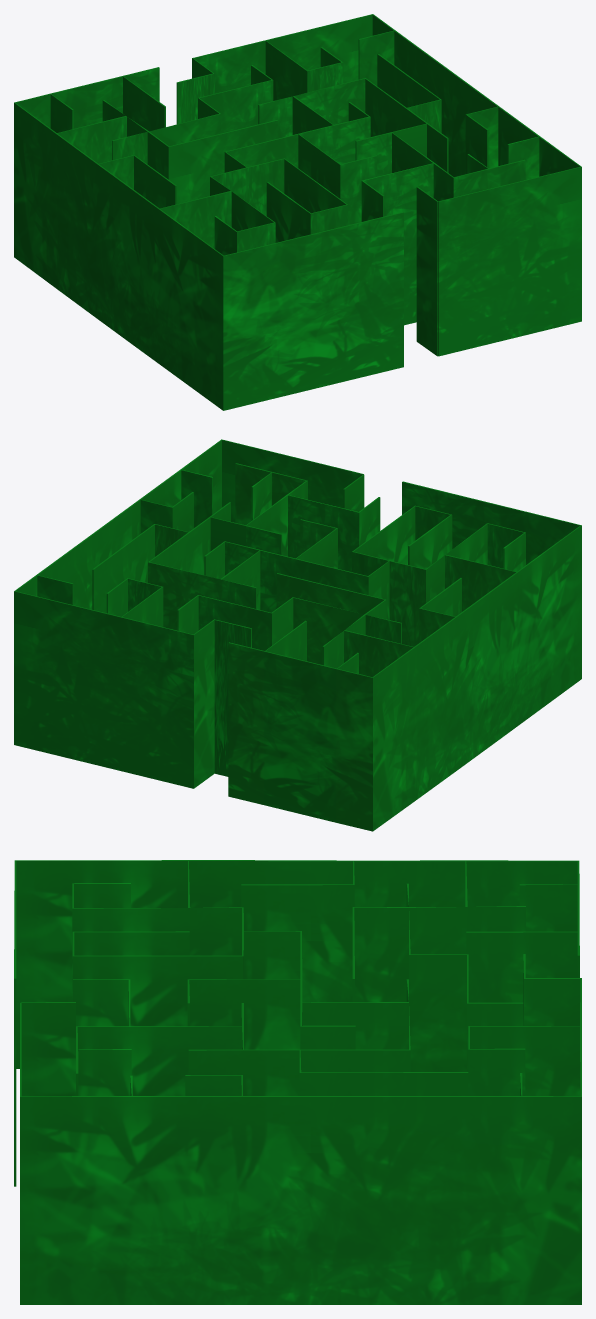
The model's file is GigaMazeEasy.glb.
3 renders of one model, top to bottom at view 1: azimuth 30°, elevation 25°; view 2: azimuth 150°, elevation 25°; view 3: azimuth 270°, elevation 25°, orthographic. The views are drawn at different scales.
Parts seen in each view (by area): view 1: Maze-col; view 2: Maze-col; view 3: Maze-col.
Boxes of the visible parts, x1,y1,x2,y2 form: Maze-col: (14,14,581,410); Maze-col: (14,439,581,831); Maze-col: (14,860,581,1304).
Size of the model in its own units: 24.42 by 10.01 by 24.75.
1 material, 1 textured.
